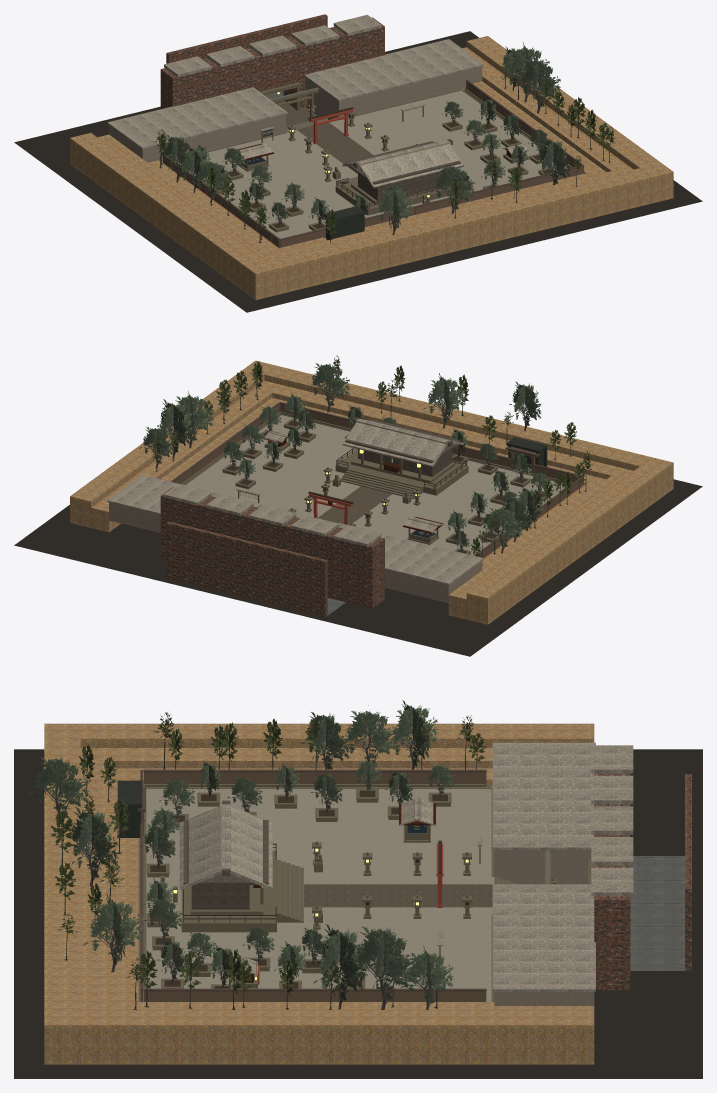
File: domino-shrine.glb
3 views of the same model, one above another, from view 1: azimuth 30°, elevation 25°; view 2: azimuth 150°, elevation 25°; view 3: azimuth 270°, elevation 25° (orthographic). The views are drawn at different scales.
Parts seen in each view (by area): view 1: bake:forest_floor:bank, bake:roof_slates_02:roof_tile, bake:gravel_floor_02:gravel, bake:plain:base, bake:picture:cutout:billboard-tree_small.png, bake:brick_wall_001:brick, bake:painted_plaster_wall:plaster, bake:concrete_wall_007:stone, bake:plain:post, bake:picture:cutout:billboard-fir_a.png, bake:dark_wooden_planks:hall_wood, bake:herringbone_pavement:sando (+4 smaller); view 2: bake:forest_floor:bank, bake:brick_wall_001:brick, bake:plain:base, bake:gravel_floor_02:gravel, bake:picture:cutout:billboard-tree_small.png, bake:roof_slates_02:roof_tile, bake:concrete_wall_007:stone, bake:picture:cutout:billboard-fir_a.png, bake:plain:post, bake:painted_plaster_wall:plaster, bake:dark_wooden_planks:hall_wood, bake:herringbone_pavement:sando (+4 smaller); view 3: bake:forest_floor:bank, bake:plain:base, bake:roof_slates_02:roof_tile, bake:gravel_floor_02:gravel, bake:picture:cutout:billboard-tree_small.png, bake:concrete_wall_007:stone, bake:picture:cutout:billboard-fir_a.png, bake:plain:post, bake:asphalt_02:road, bake:brick_wall_001:brick, bake:painted_plaster_wall:plaster, bake:herringbone_pavement:sando (+5 smaller).
Boxes of the visible parts, left/top/right/bottom form: bake:forest_floor:bank: left=70, top=36, right=673, bottom=300; bake:roof_slates_02:roof_tile: left=107, top=14, right=529, bottom=188; bake:gravel_floor_02:gravel: left=175, top=89, right=567, bottom=238; bake:plain:base: left=14, top=31, right=702, bottom=312; bake:picture:cutout:billboard-tree_small.png: left=159, top=42, right=570, bottom=235; bake:brick_wall_001:brick: left=160, top=14, right=384, bottom=108; bake:painted_plaster_wall:plaster: left=109, top=66, right=482, bottom=162; bake:concrete_wall_007:stone: left=176, top=82, right=584, bottom=239; bake:plain:post: left=163, top=82, right=583, bottom=247; bake:picture:cutout:billboard-fir_a.png: left=157, top=79, right=609, bottom=243; bake:dark_wooden_planks:hall_wood: left=345, top=141, right=460, bottom=200; bake:herringbone_pavement:sando: left=297, top=122, right=373, bottom=174; bake:forest_floor:bank: left=70, top=360, right=673, bottom=624; bake:brick_wall_001:brick: left=160, top=487, right=384, bottom=617; bake:plain:base: left=14, top=479, right=702, bottom=656; bake:gravel_floor_02:gravel: left=186, top=415, right=567, bottom=555; bake:picture:cutout:billboard-tree_small.png: left=139, top=363, right=549, bottom=553; bake:roof_slates_02:roof_tile: left=107, top=418, right=483, bottom=585; bake:concrete_wall_007:stone: left=181, top=411, right=572, bottom=554; bake:picture:cutout:billboard-fir_a.png: left=186, top=361, right=585, bottom=556; bake:plain:post: left=173, top=404, right=583, bottom=557; bake:painted_plaster_wall:plaster: left=109, top=502, right=482, bottom=603; bake:dark_wooden_planks:hall_wood: left=345, top=419, right=460, bottom=476; bake:herringbone_pavement:sando: left=318, top=486, right=392, bottom=524; bake:forest_floor:bank: left=44, top=723, right=594, bottom=1064; bake:plain:base: left=14, top=749, right=702, bottom=1078; bake:roof_slates_02:roof_tile: left=179, top=742, right=633, bottom=991; bake:gravel_floor_02:gravel: left=146, top=786, right=494, bottom=1001; bake:picture:cutout:billboard-tree_small.png: left=28, top=700, right=454, bottom=1009; bake:concrete_wall_007:stone: left=138, top=784, right=594, bottom=1001; bake:picture:cutout:billboard-fir_a.png: left=51, top=718, right=485, bottom=1009; bake:plain:post: left=140, top=772, right=486, bottom=1001; bake:asphalt_02:road: left=630, top=856, right=684, bottom=970; bake:brick_wall_001:brick: left=594, top=773, right=691, bottom=990; bake:painted_plaster_wall:plaster: left=494, top=850, right=594, bottom=1005; bake:herringbone_pavement:sando: left=304, top=884, right=492, bottom=907.
Bounding box in the file's own units: 86 × 15.2 × 76.01.
45 materials, 14 textured.
